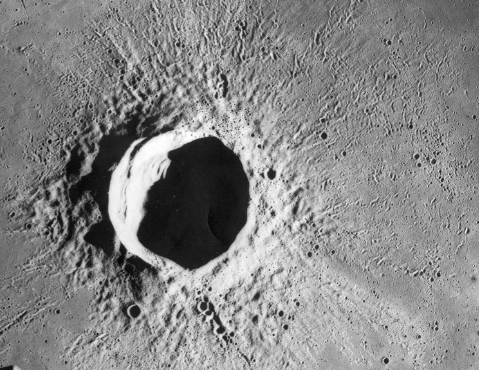crater: (13, 37, 385, 331)
